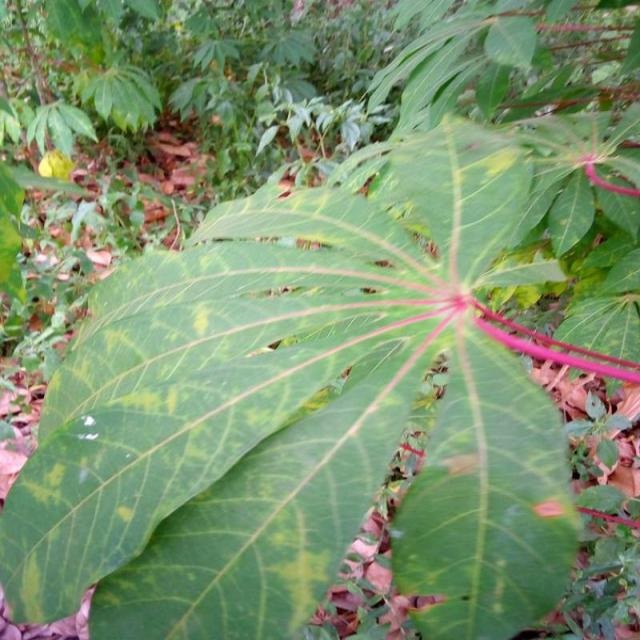cassava leaf: (0, 111, 594, 638)
